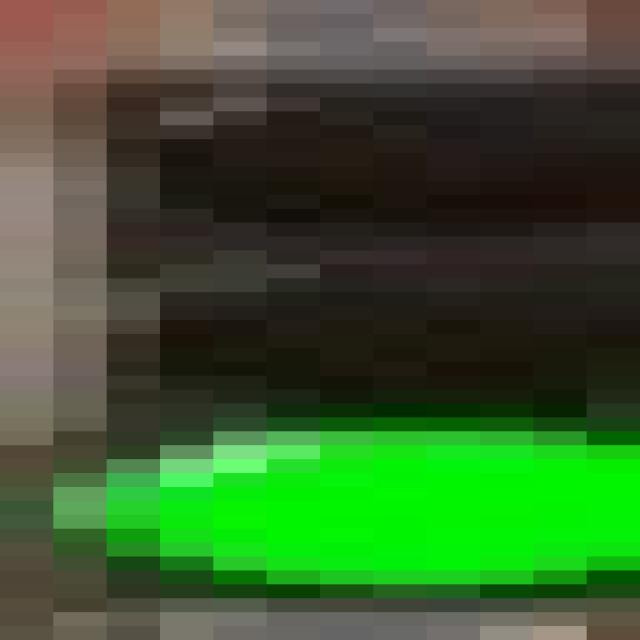green_light: (2, 82, 640, 585)
